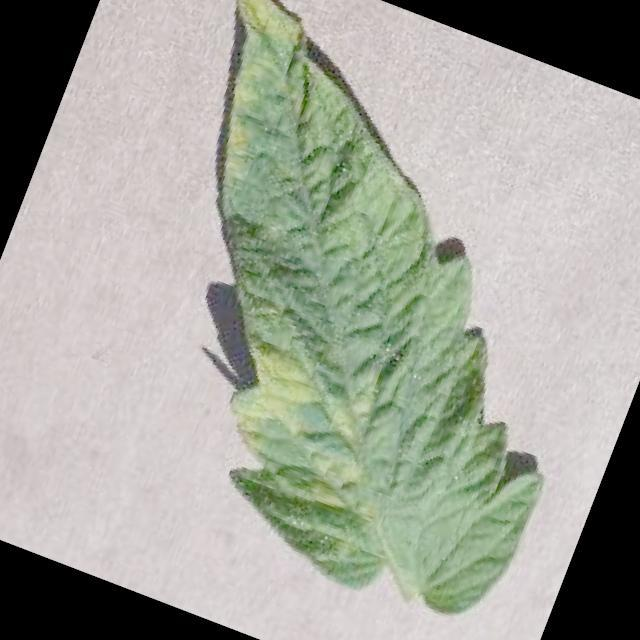Tomato mold leaf: (51, 0, 640, 640)
